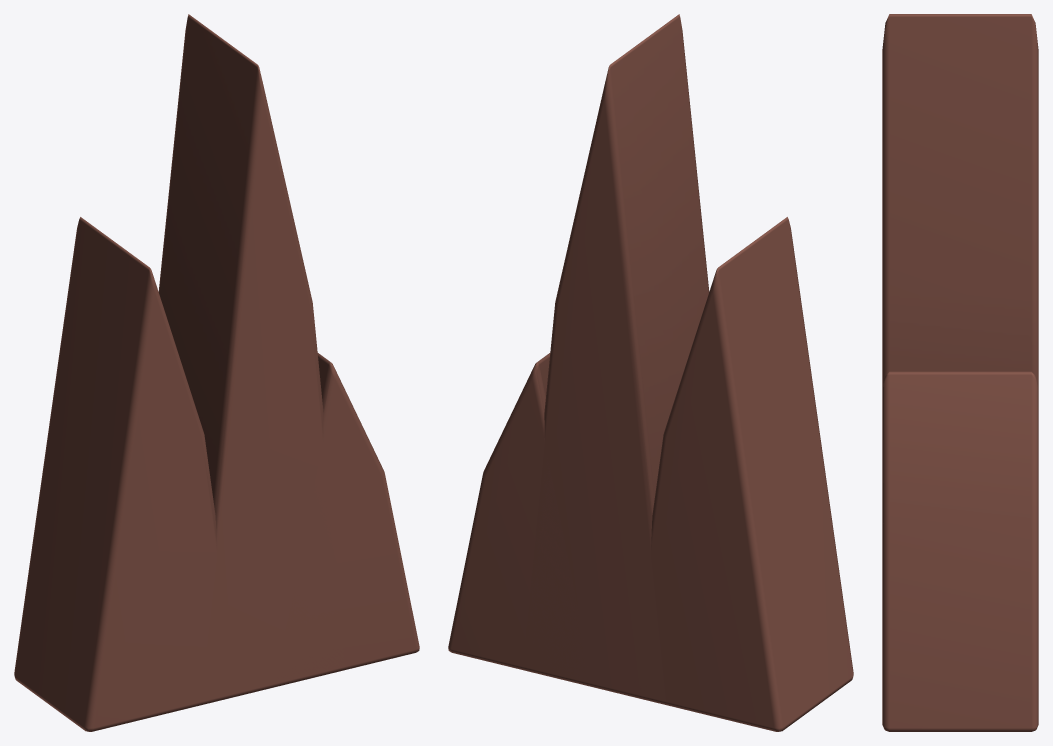
Rendered from crag.glb.
The picture shows the model from 3 angles, left to right: view 1: azimuth 30°, elevation 25°; view 2: azimuth 150°, elevation 25°; view 3: azimuth 270°, elevation 25°; orthographic projection. The views are drawn at different scales.
Visible parts, largest first — view 1: crag; view 2: crag; view 3: crag.
Boxes of the visible parts, box(x1,y1,x2,y2) form: crag: box(14, 14, 419, 731); crag: box(448, 14, 853, 731); crag: box(882, 14, 1038, 731).
Size of the model in its own units: 2.78 by 4.97 by 1.1.
